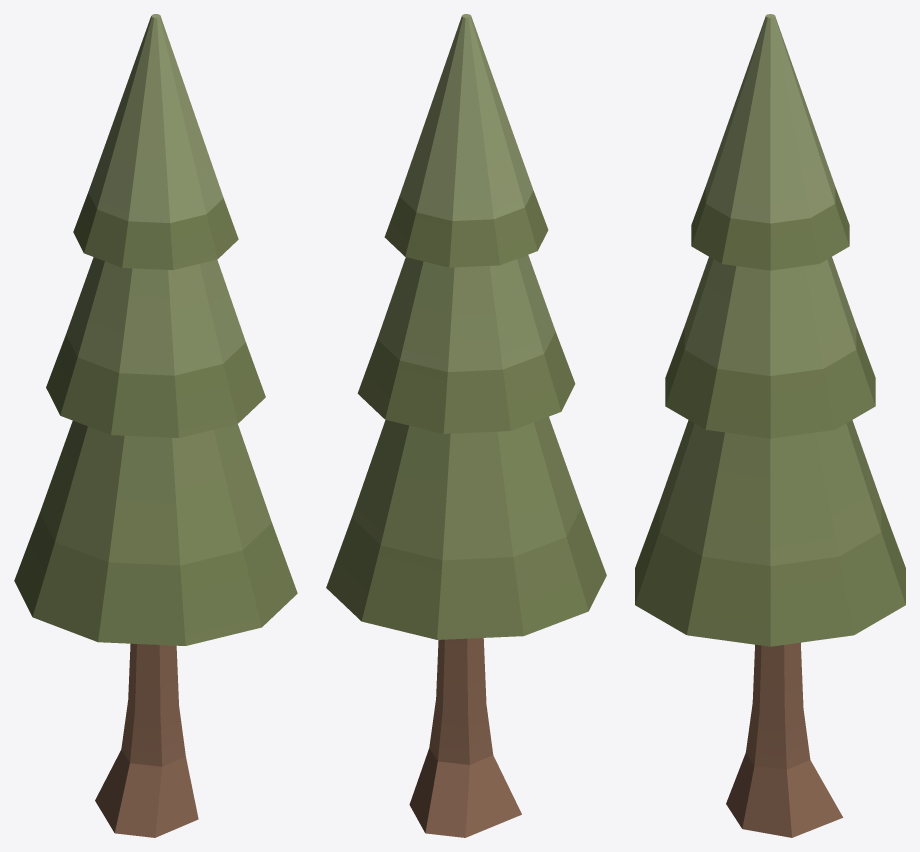
Rendered from fir_tree_35.fbx.
The picture shows the model from 3 angles, left to right: view 1: azimuth 30°, elevation 25°; view 2: azimuth 150°, elevation 25°; view 3: azimuth 270°, elevation 25°; orthographic projection.
Visible parts, largest first — view 1: fir_tree_35; view 2: fir_tree_35; view 3: fir_tree_35.
Boxes of the visible parts, bbox=[...] form: fir_tree_35: bbox=[14, 14, 297, 837]; fir_tree_35: bbox=[326, 14, 606, 837]; fir_tree_35: bbox=[635, 14, 905, 837].
Bounding box in the file's own units: 173 × 535 × 164.
